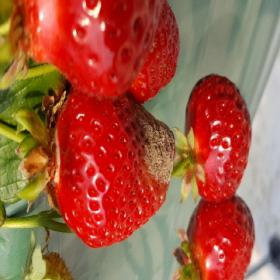Gray Mold: (131, 103, 176, 190)
